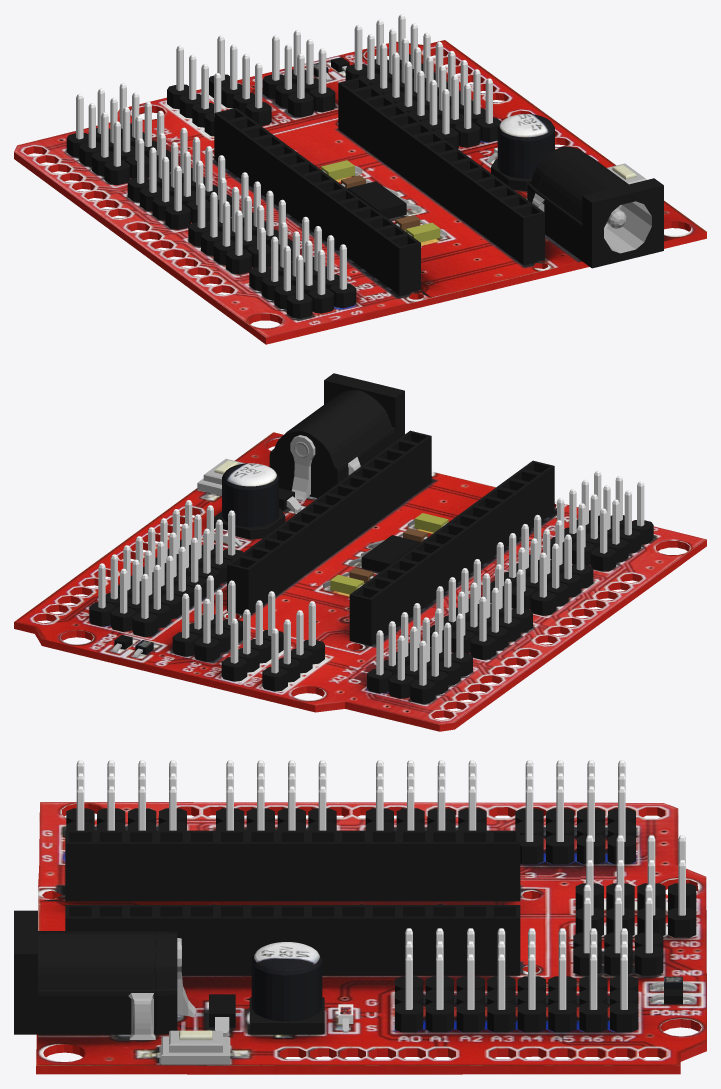
File: aaae6f61-6de1-4f6a-897a-37bd2af5072a.glb
The picture shows the model from 3 angles, top to bottom: view 1: azimuth 30°, elevation 25°; view 2: azimuth 150°, elevation 25°; view 3: azimuth 270°, elevation 25°; orthographic projection. The views are drawn at different scales.
Visible parts, largest first — view 1: body.498_0; view 2: body.498_0; view 3: body.498_0.
Part boxes in pixels (x1,y1,x2,y2): body.498_0: (14,14,706,344); body.498_0: (14,373,706,731); body.498_0: (14,760,706,1074).
Size of the model in its own units: 8.63 by 1.36 by 9.58.
Materials: 9 (3 with a texture image).
